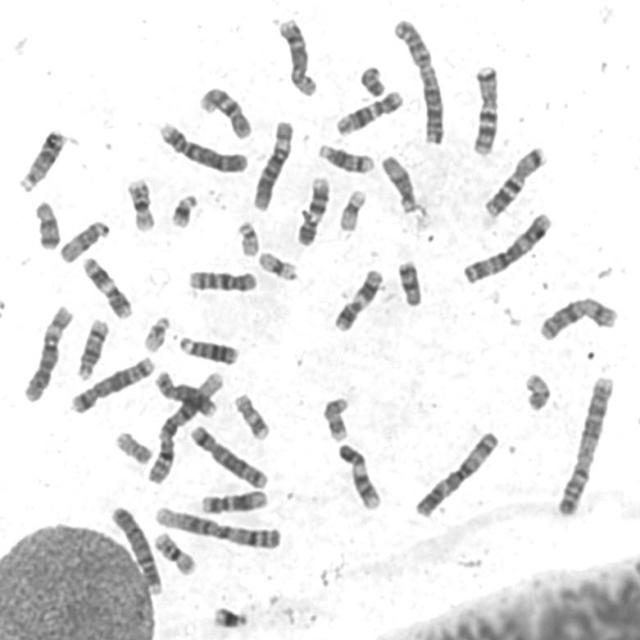A1: (143, 366, 227, 487), (151, 500, 285, 550)
A2: (553, 371, 617, 518), (390, 15, 448, 146)
A3: (410, 425, 502, 520), (459, 207, 555, 286)
B4: (155, 117, 251, 175), (107, 500, 165, 596)
B5: (186, 420, 270, 490), (67, 351, 157, 415)
C10: (195, 81, 255, 141), (184, 264, 259, 294)
C11: (79, 251, 135, 321), (330, 264, 385, 334)
C12: (332, 85, 406, 137), (197, 485, 271, 515)
C6: (19, 301, 74, 404), (249, 115, 297, 212)
C7: (480, 141, 549, 218), (468, 59, 502, 158)
C8: (274, 14, 320, 97), (150, 365, 220, 419)
C9: (334, 439, 384, 512), (292, 170, 332, 247)
D13: (14, 124, 67, 193), (175, 330, 240, 366)
D14: (73, 314, 111, 381), (314, 139, 377, 175)
D15: (55, 215, 112, 264), (378, 150, 420, 215)
E16: (150, 526, 199, 576), (123, 173, 158, 233)
E17: (230, 389, 272, 442), (318, 392, 352, 443)
E18: (29, 196, 62, 251), (394, 256, 425, 308)
F19: (255, 246, 301, 283), (335, 184, 369, 233)
F20: (111, 426, 154, 466), (521, 367, 553, 412)
G21: (166, 189, 201, 229), (208, 601, 252, 631)
G22: (138, 310, 173, 353), (234, 217, 262, 258)
X: (535, 292, 620, 342)
Y: (357, 61, 388, 98)
